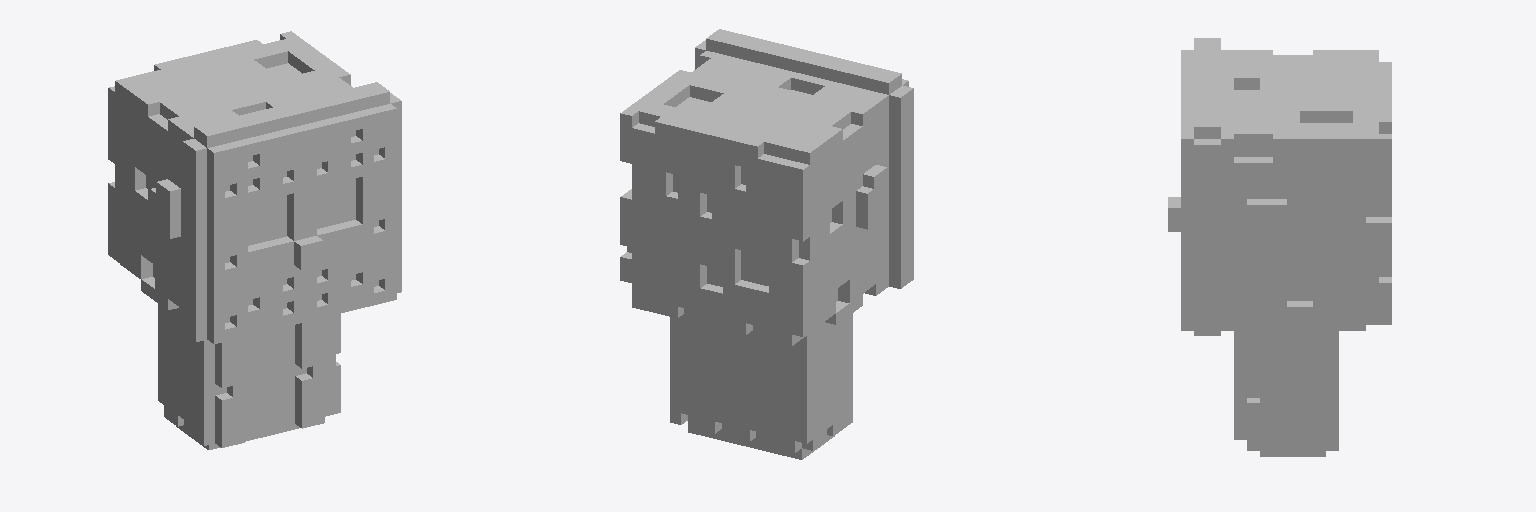
Rendered from bodyJSON.obj.
3 views of the same model, side by side, from view 1: azimuth 30°, elevation 25°; view 2: azimuth 150°, elevation 25°; view 3: azimuth 270°, elevation 25° (orthographic).
Visible parts, largest first — view 1: object 1; view 2: object 1; view 3: object 1.
Boxes of the visible parts, x1=… form: object 1: x1=108, y1=31, x2=401, y2=449; object 1: x1=620, y1=29, x2=913, y2=459; object 1: x1=1168, y1=38, x2=1391, y2=456.
Bounding box in the file's own units: 1.8 × 2.9 × 1.7.